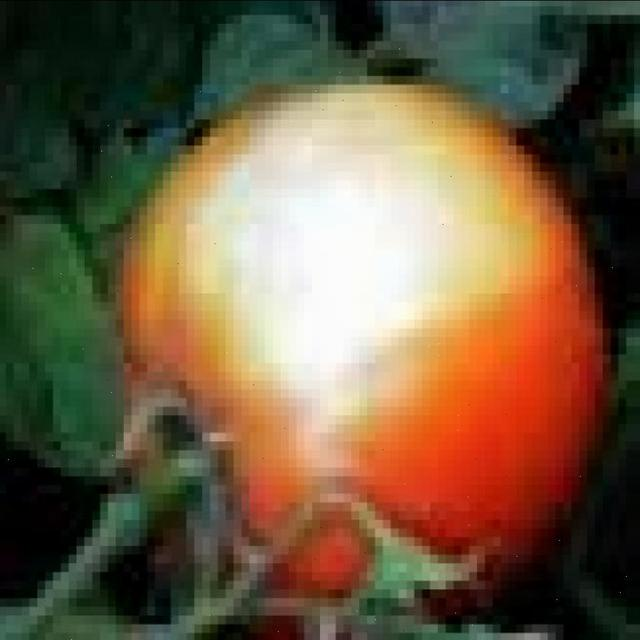Sunscald Fruit: (103, 64, 355, 320)
